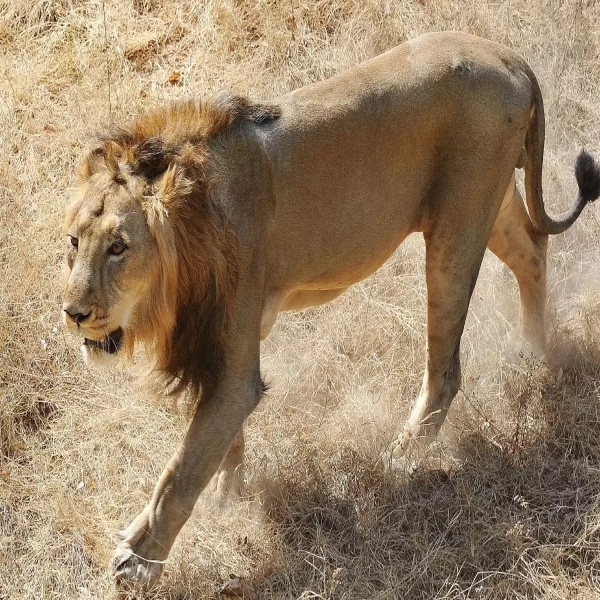Lion: (60, 25, 600, 592)
